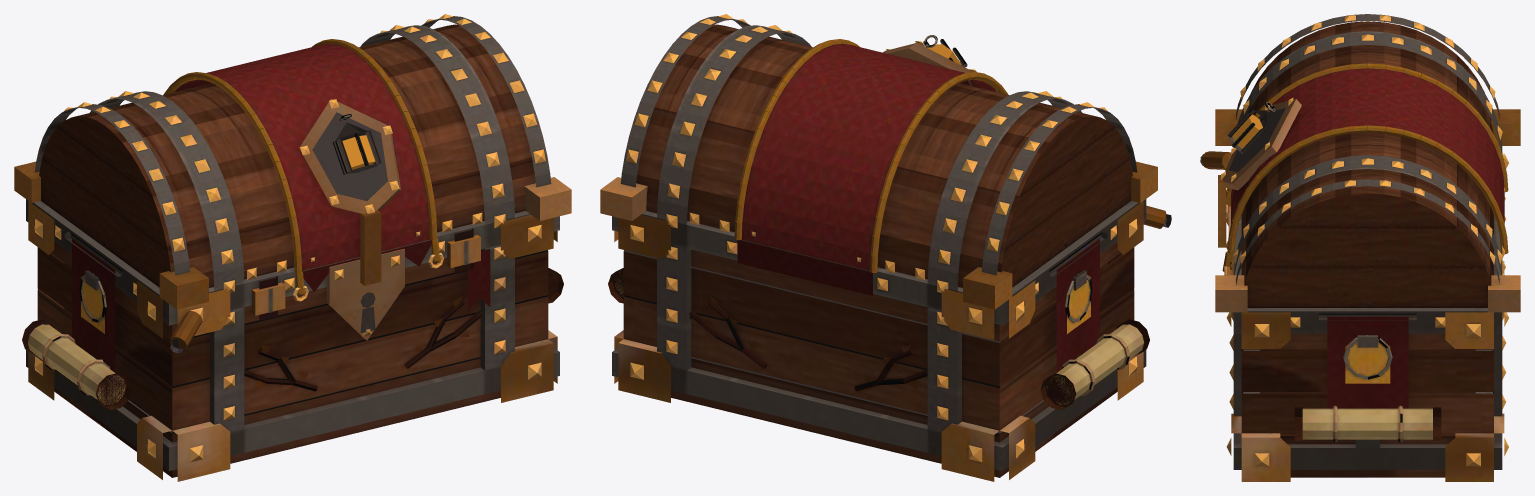
The model's file is chest_lantern.glb.
The picture shows the model from 3 angles, left to right: view 1: azimuth 30°, elevation 25°; view 2: azimuth 150°, elevation 25°; view 3: azimuth 270°, elevation 25°; orthographic projection. The views are drawn at different scales.
Visible parts, largest first — view 1: lid_mesh, body, lid_glass; view 2: lid_mesh, body; view 3: lid_mesh, body, lid_glass.
Boxes of the visible parts, <box> form: lid_mesh: <box>14,14,571,309</box>; body: <box>22,199,563,481</box>; lid_glass: <box>339,135,375,169</box>; lid_mesh: <box>600,14,1157,309</box>; body: <box>608,199,1171,481</box>; lid_mesh: <box>1215,14,1520,312</box>; body: <box>1200,146,1508,481</box>; lid_glass: <box>1232,114,1262,148</box>.
Size of the model in its own units: 1.24 by 0.806 by 0.7863.
3 materials, 2 textured.
